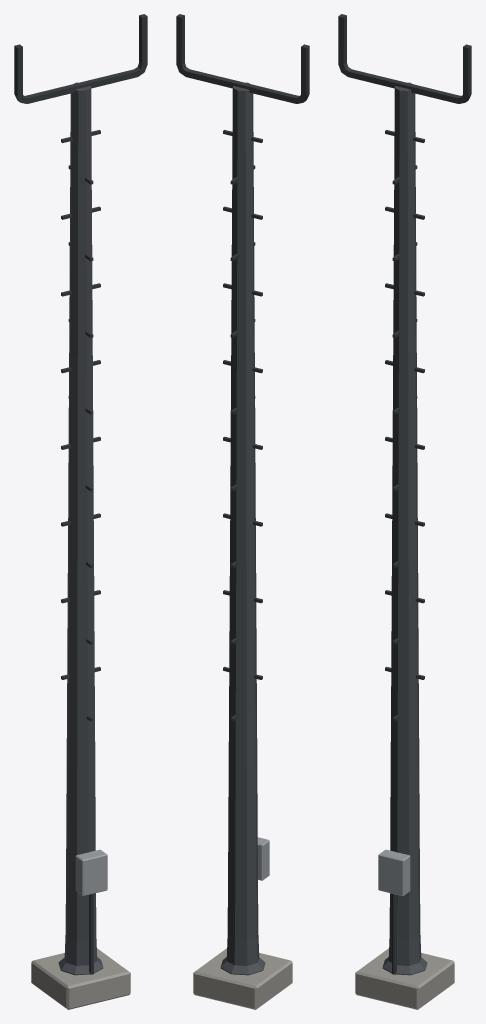
The model's file is mat_projecteur.glb.
3 views of the same model, side by side, from view 1: azimuth 30°, elevation 25°; view 2: azimuth 150°, elevation 25°; view 3: azimuth 330°, elevation 25° (orthographic).
Parts seen in each view (by area): view 1: pole, footing, yoke, junction, steps_b, conduit, steps_a; view 2: pole, footing, yoke, steps_b, junction, steps_a; view 3: pole, footing, yoke, junction, steps_b, conduit, steps_a.
Boxes of the visible parts, x1=… form: pole: x1=58, y1=82, x2=103, y2=975; footing: x1=31, y1=948, x2=130, y2=1009; yoke: x1=14, y1=14, x2=147, y2=103; junction: x1=75, y1=849, x2=107, y2=896; steps_b: x1=61, y1=130, x2=100, y2=679; conduit: x1=89, y1=893, x2=93, y2=974; steps_a: x1=68, y1=165, x2=93, y2=721; pole: x1=220, y1=82, x2=265, y2=975; footing: x1=193, y1=948, x2=292, y2=1009; yoke: x1=176, y1=14, x2=309, y2=103; steps_b: x1=223, y1=130, x2=262, y2=679; junction: x1=257, y1=837, x2=269, y2=880; steps_a: x1=230, y1=165, x2=255, y2=721; pole: x1=382, y1=82, x2=427, y2=975; footing: x1=355, y1=948, x2=454, y2=1009; yoke: x1=338, y1=14, x2=471, y2=103; junction: x1=378, y1=849, x2=410, y2=896; steps_b: x1=385, y1=130, x2=424, y2=679; conduit: x1=392, y1=893, x2=396, y2=974; steps_a: x1=392, y1=165, x2=417, y2=721.
Bounding box in the file's own units: 1.42 × 10 × 0.7.
Materials: 4 (4 with a texture image).
